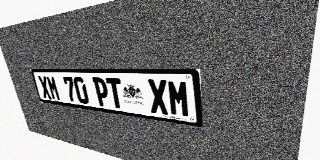0: (72, 77, 90, 104)
7: (62, 76, 78, 103)
M: (167, 80, 191, 118), (46, 76, 61, 101)
P: (92, 77, 111, 107)
T: (106, 78, 125, 109)
X: (147, 79, 169, 115), (37, 76, 52, 99)
